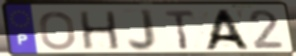2: (247, 8, 286, 50)
A: (201, 8, 253, 51)
H: (77, 10, 123, 51)
J: (126, 8, 158, 53)
O: (38, 10, 79, 51)
T: (163, 9, 197, 51)
